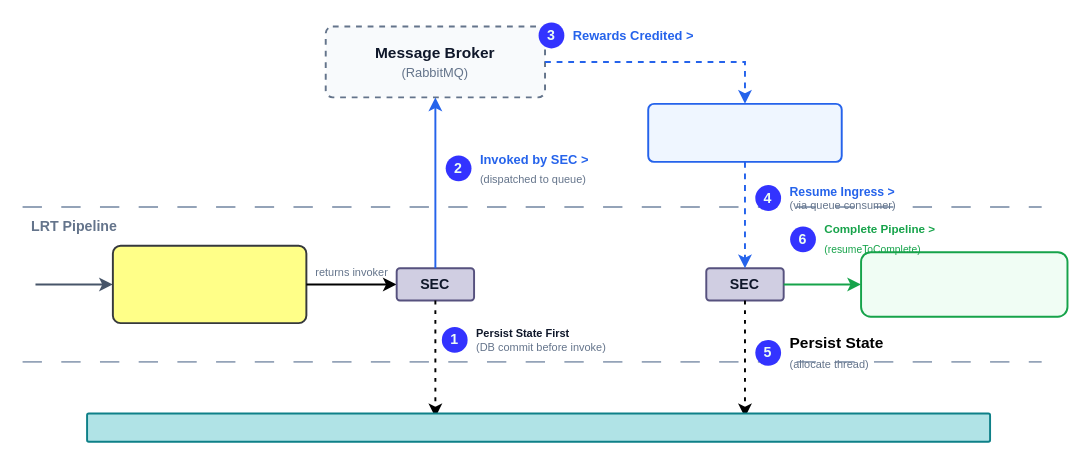
This 1091x464 diagram has some shape labels left out. Each missing label, with the box of its shape:
Accrue Rewards (registers invoker): (111, 244, 307, 324)
event-store: (86, 412, 990, 442)
Pipeline Completed (Terminal State): (860, 251, 1068, 317)
Rewards Consumer (Queue Listener): (647, 102, 842, 162)
